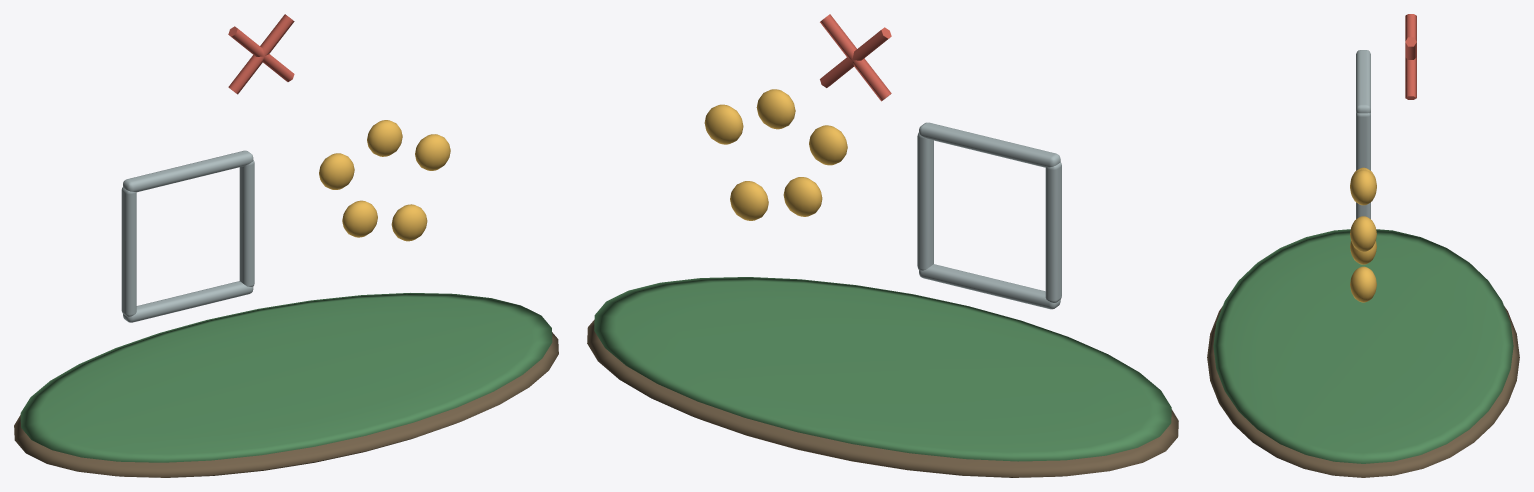
The model's file is complete-third-missing-dot.glb.
The picture shows the model from 3 angles, left to right: view 1: azimuth 30°, elevation 25°; view 2: azimuth 150°, elevation 25°; view 3: azimuth 270°, elevation 25°; orthographic projection. The views are drawn at different scales.
Parts seen in each view (by area): view 1: complete-third-missing-dot_surface_01, complete-third-missing-dot_surface_00, complete-third-missing-dot_surface_02, complete-third-missing-dot_surface_03, complete-third-missing-dot_surface_04; view 2: complete-third-missing-dot_surface_01, complete-third-missing-dot_surface_00, complete-third-missing-dot_surface_02, complete-third-missing-dot_surface_03, complete-third-missing-dot_surface_04; view 3: complete-third-missing-dot_surface_01, complete-third-missing-dot_surface_00, complete-third-missing-dot_surface_03, complete-third-missing-dot_surface_02, complete-third-missing-dot_surface_04.
Part boxes in pixels (x1,y1,x2,y2): complete-third-missing-dot_surface_01: (20, 293, 552, 462); complete-third-missing-dot_surface_00: (14, 332, 558, 477); complete-third-missing-dot_surface_02: (121, 150, 254, 322); complete-third-missing-dot_surface_03: (319, 120, 450, 241); complete-third-missing-dot_surface_04: (228, 14, 294, 94); complete-third-missing-dot_surface_01: (594, 277, 1171, 461); complete-third-missing-dot_surface_00: (587, 319, 1178, 477); complete-third-missing-dot_surface_02: (917, 122, 1061, 309); complete-third-missing-dot_surface_03: (704, 89, 847, 220); complete-third-missing-dot_surface_04: (820, 14, 891, 101); complete-third-missing-dot_surface_01: (1213, 229, 1513, 463); complete-third-missing-dot_surface_00: (1207, 306, 1519, 477); complete-third-missing-dot_surface_03: (1350, 167, 1376, 302); complete-third-missing-dot_surface_02: (1356, 50, 1370, 218); complete-third-missing-dot_surface_04: (1405, 14, 1416, 99).
Size of the model in its own units: 4.56 by 3.06 by 2.5.
